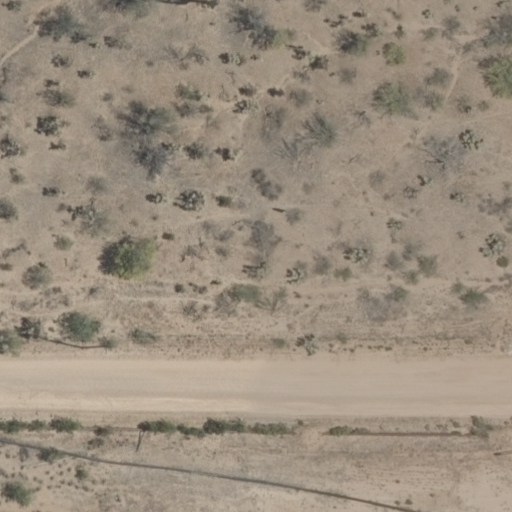DT: (76, 338, 121, 357)
